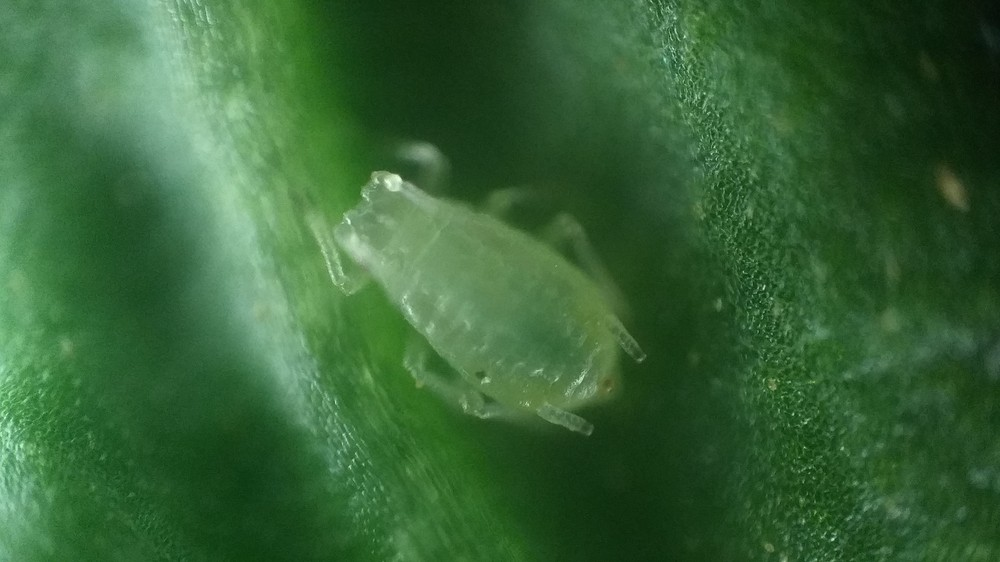Pulgon: (296, 131, 707, 459)
